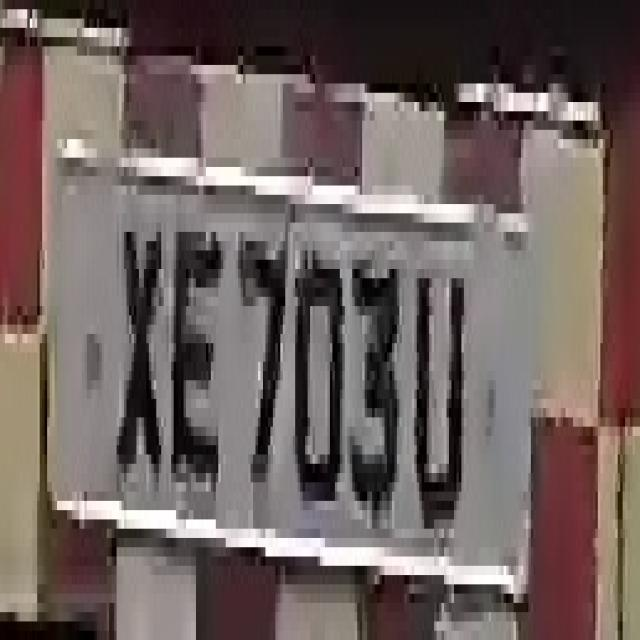0: (286, 241, 342, 520)
3: (345, 241, 404, 520)
7: (233, 222, 290, 501)
E: (169, 195, 223, 501)
U: (414, 241, 472, 538)
X: (112, 185, 171, 501)
